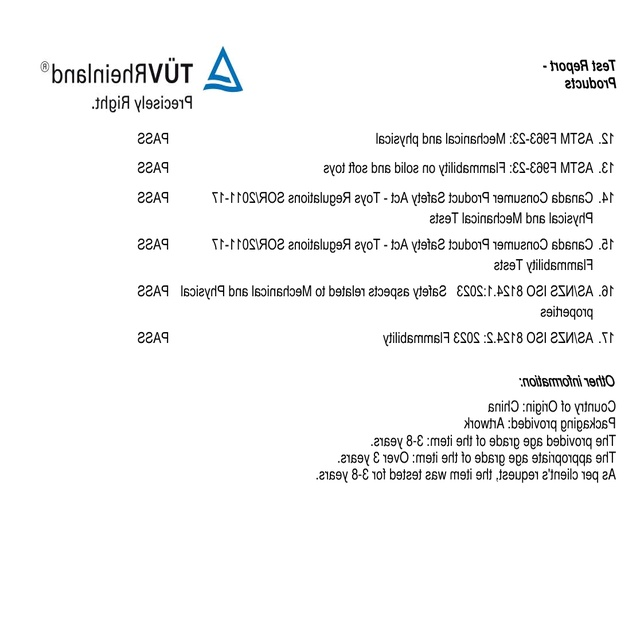tuv_rheinland: (39, 43, 246, 96)
